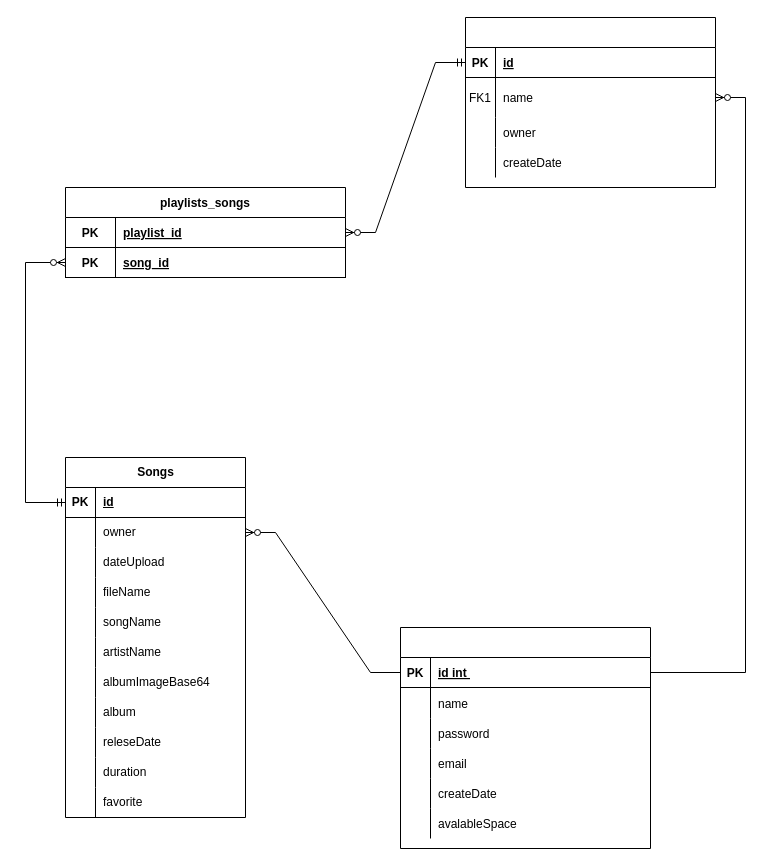
Some shapes in this 771 by 866 pixel diagram are drawn without their labels. Here are the shapes that lost their labels. From the top down, the box of each, then its label:
(464, 16, 716, 188): Playlists
(400, 626, 650, 848): User
